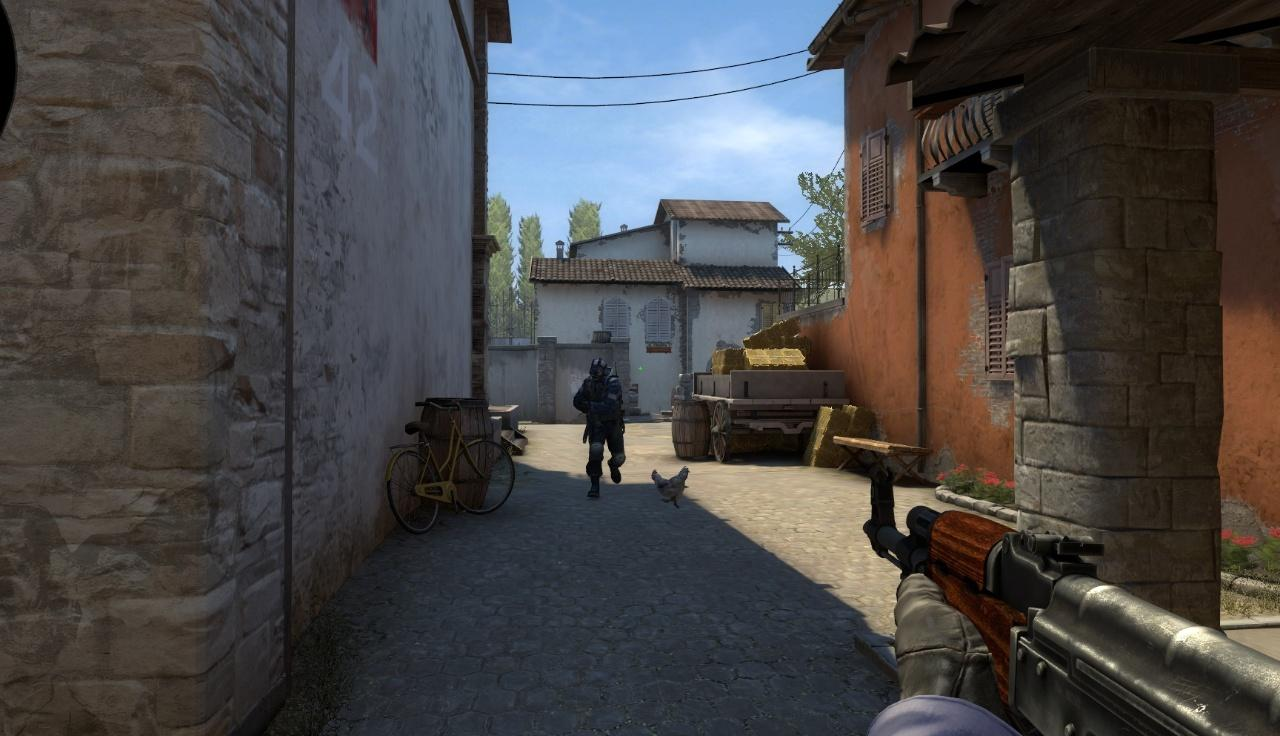ct: (577, 358, 626, 499)
cthead: (589, 360, 608, 382)
rifle: (866, 469, 1280, 736)
